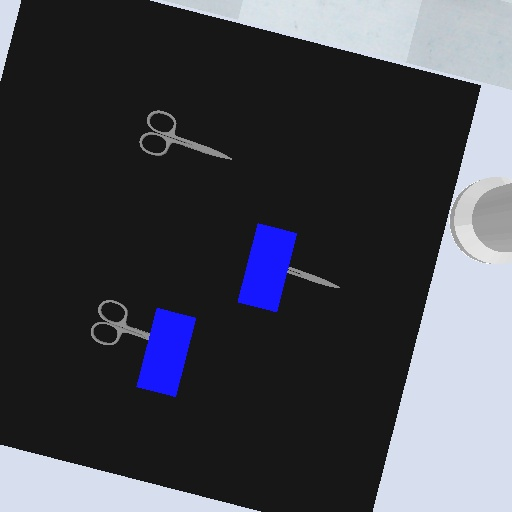tijera: (137, 107, 237, 170), (87, 296, 152, 350), (285, 264, 343, 293)
